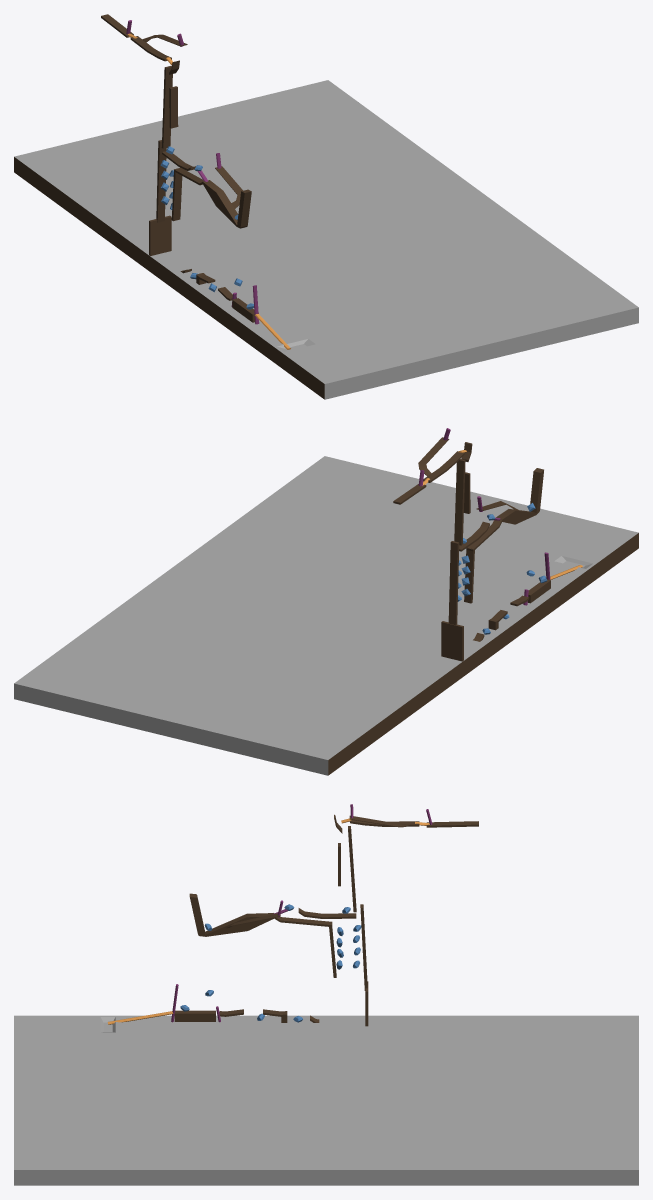
File: Lvl_design_v02.fbx
The picture shows the model from 3 angles, top to bottom: view 1: azimuth 30°, elevation 25°; view 2: azimuth 150°, elevation 25°; view 3: azimuth 270°, elevation 25°; orthographic projection.
Parts seen in each view (by area): view 1: Ground, base_1b2, pCube1, other_base, other_base2; view 2: Ground, base_1b2, pCube1, other_base, other_base2; view 3: Ground, base_1b2.
Boxes of the visible parts, x1,y1,x2,y2 form: Ground: [14, 80, 638, 399]; base_1b2: [202, 180, 251, 228]; pCube1: [149, 215, 171, 255]; other_base: [161, 65, 172, 148]; other_base2: [156, 140, 166, 222]; Ground: [14, 456, 638, 775]; base_1b2: [496, 468, 543, 524]; pCube1: [441, 621, 463, 661]; other_base: [454, 459, 465, 545]; other_base2: [448, 541, 459, 625]; Ground: [14, 1015, 638, 1185]; base_1b2: [189, 893, 274, 936].
Size of the model in its own units: 626 by 467 by 1072.
